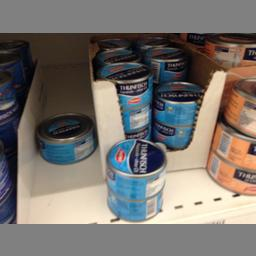fish: (104, 136, 167, 199), (33, 110, 96, 164), (100, 60, 154, 108), (152, 81, 202, 126), (102, 186, 164, 220), (143, 46, 185, 78)
